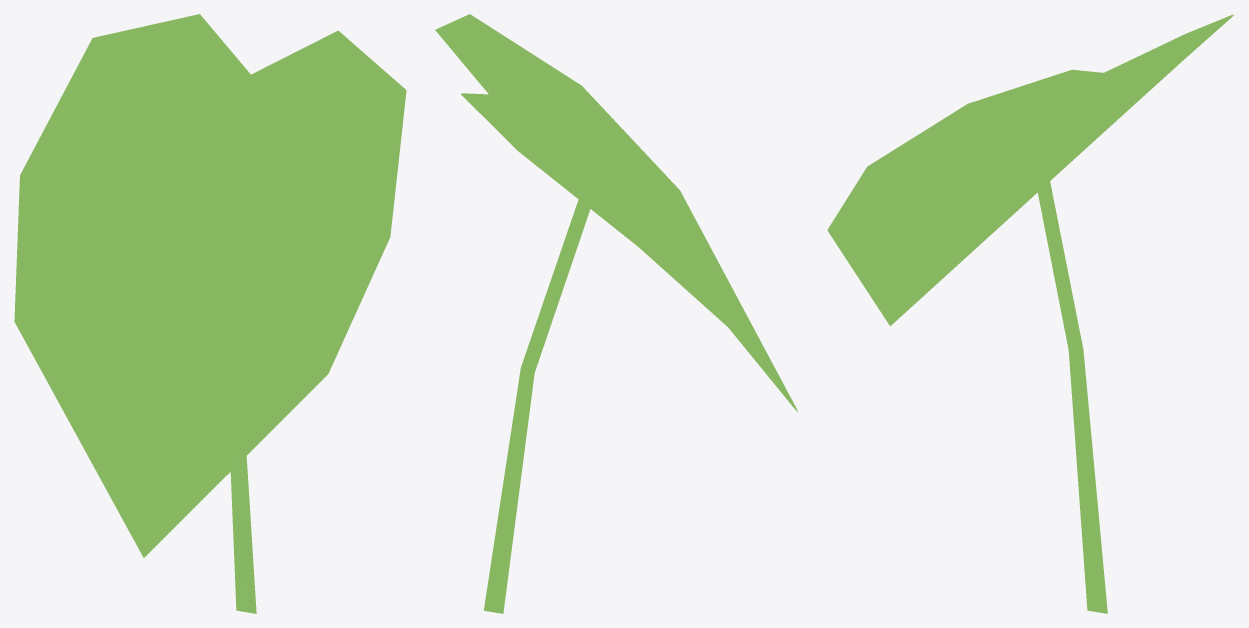
File: Plant_d_TwoS_02.fbx
3 views of the same model, side by side, from view 1: azimuth 30°, elevation 25°; view 2: azimuth 150°, elevation 25°; view 3: azimuth 270°, elevation 25° (orthographic). The views are drawn at different scales.
Visible parts, largest first — view 1: Plant_d_TwoS_02; view 2: Plant_d_TwoS_02; view 3: Plant_d_TwoS_02.
Part boxes in pixels (box(x1,y1,x2,y2)): Plant_d_TwoS_02: box(14, 14, 406, 613); Plant_d_TwoS_02: box(435, 14, 797, 613); Plant_d_TwoS_02: box(827, 14, 1233, 613).
Bounding box in the file's own units: 0.4072 × 0.6731 × 0.4304.
